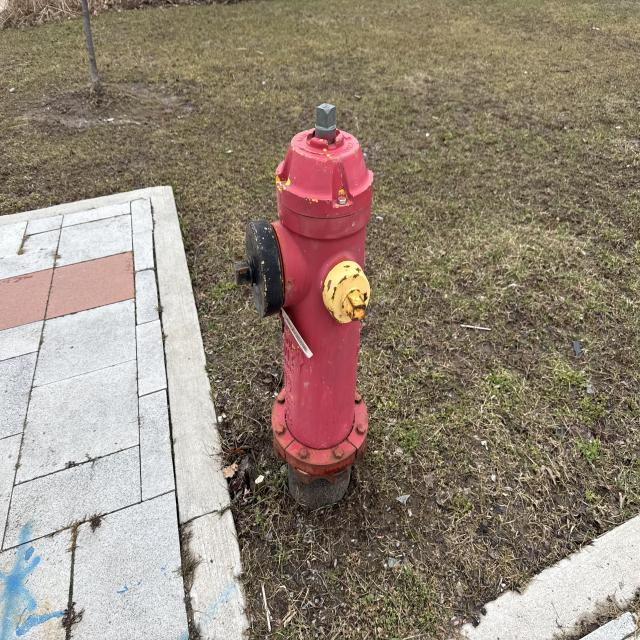Fire hydrant: (233, 103, 374, 486)
